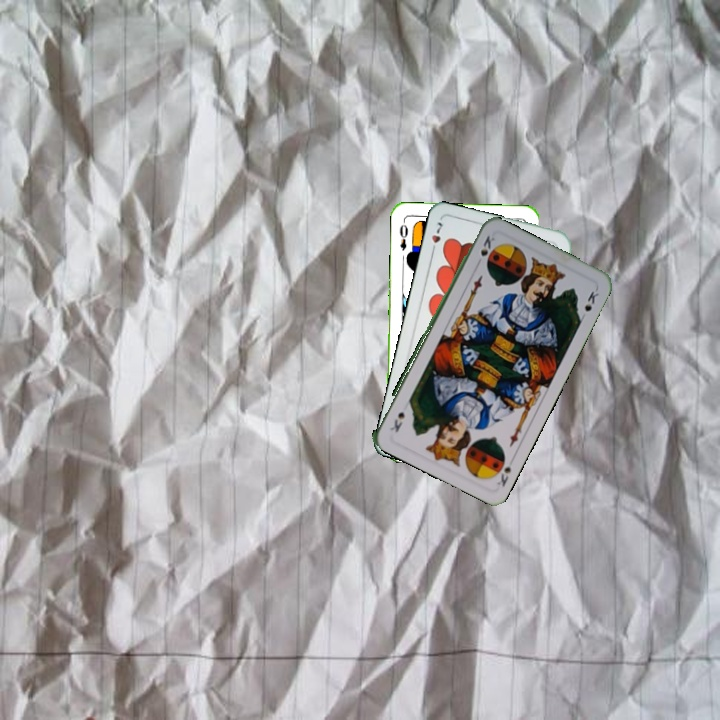EO: (395, 217, 410, 253)
H7: (427, 218, 446, 257)
SK: (493, 453, 517, 489), (476, 231, 497, 259)
